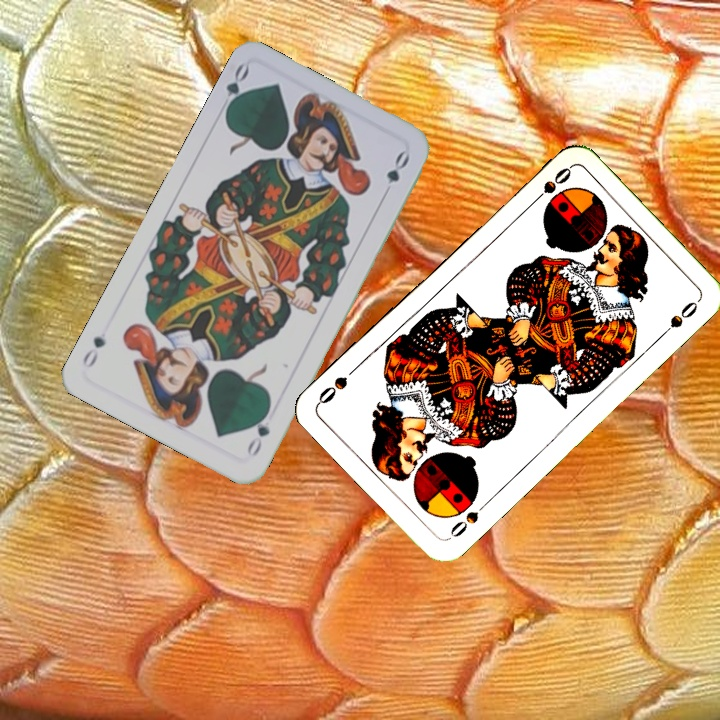GO: (219, 60, 252, 118), (242, 404, 273, 460)
SO: (526, 163, 575, 208), (444, 497, 491, 543)
